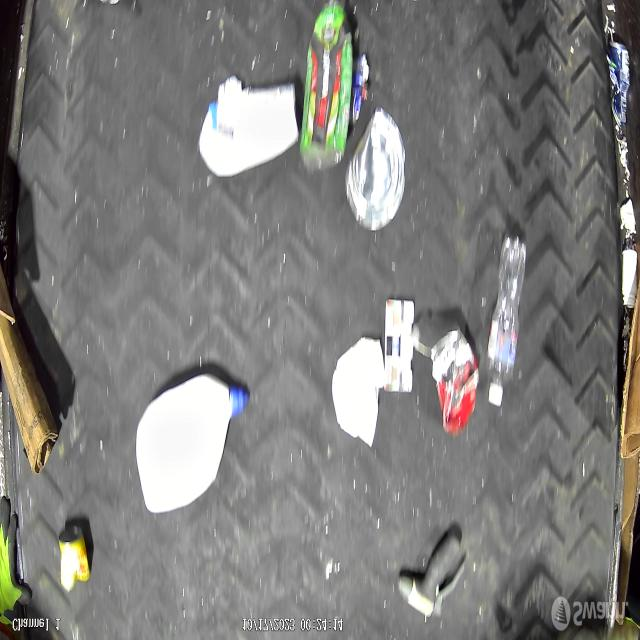can: (345, 110, 406, 232), (606, 39, 630, 129), (57, 525, 90, 590)
milk_jug: (134, 373, 247, 514)
plastic_bottle: (487, 235, 527, 406)
